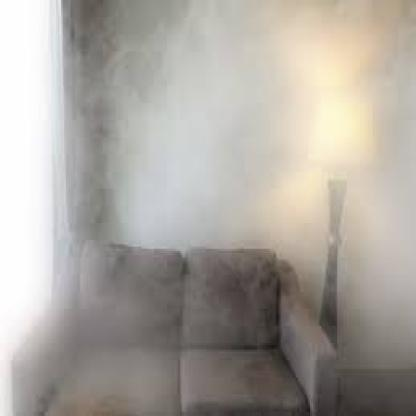smoke: (0, 2, 414, 416)
